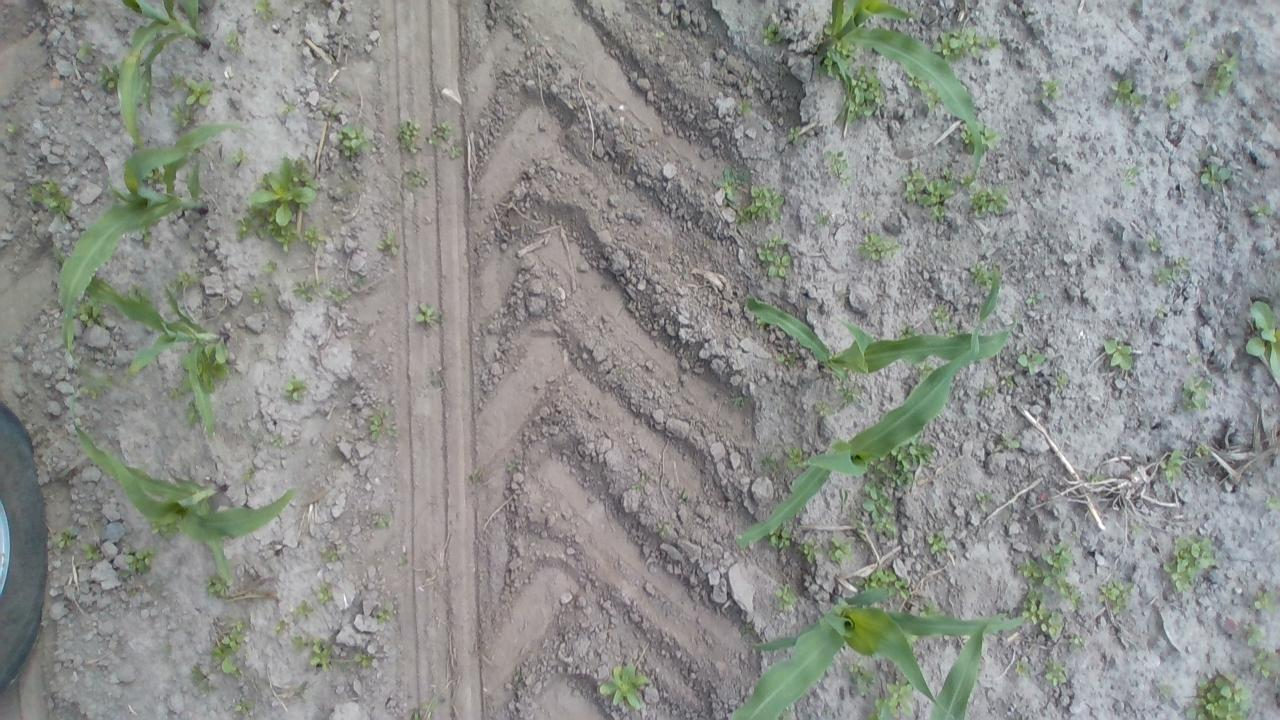Maize: (738, 270, 999, 548), (60, 124, 254, 388), (70, 388, 300, 583), (719, 586, 1030, 720), (48, 237, 232, 443), (814, 0, 984, 210), (742, 294, 1019, 384), (841, 611, 1005, 720), (119, 0, 214, 152)
Weeds: (234, 156, 324, 251), (858, 432, 933, 538), (1015, 542, 1084, 611), (1160, 535, 1216, 595), (1185, 671, 1250, 720), (596, 661, 652, 712), (178, 340, 232, 392), (1245, 300, 1280, 378), (1018, 588, 1064, 640), (900, 168, 959, 208), (842, 65, 884, 121), (852, 564, 911, 600), (734, 184, 784, 224), (210, 622, 244, 680), (868, 679, 916, 720), (28, 178, 72, 222), (931, 27, 982, 64), (814, 41, 860, 81), (1202, 53, 1237, 100), (904, 67, 942, 109), (756, 234, 792, 278), (712, 166, 750, 204), (958, 122, 1002, 154), (336, 121, 372, 158), (1098, 578, 1134, 614), (120, 546, 158, 580), (856, 232, 900, 260), (969, 187, 1010, 216), (72, 296, 106, 330), (1181, 377, 1213, 413), (823, 148, 853, 185), (1152, 256, 1190, 284), (1102, 338, 1135, 369), (848, 661, 877, 696), (1108, 78, 1144, 106), (1017, 346, 1047, 375), (1248, 649, 1280, 676), (1198, 165, 1232, 190), (311, 636, 334, 672), (367, 410, 394, 440), (1158, 450, 1184, 481), (185, 80, 213, 108), (96, 62, 120, 93), (79, 376, 114, 397), (766, 518, 792, 546), (191, 664, 215, 694), (827, 536, 853, 563), (126, 282, 154, 307), (202, 574, 230, 599), (396, 118, 420, 146), (148, 521, 180, 542), (428, 120, 453, 146), (796, 538, 822, 562), (282, 375, 306, 401), (969, 262, 992, 288), (182, 397, 201, 428), (775, 584, 796, 612), (52, 526, 76, 550), (1044, 660, 1066, 686), (172, 270, 198, 292), (914, 359, 936, 385), (1252, 589, 1276, 612), (838, 383, 861, 406), (292, 280, 314, 304), (170, 104, 192, 128), (926, 530, 947, 555), (1244, 624, 1266, 647), (784, 445, 804, 470), (1038, 79, 1060, 101), (414, 302, 436, 324), (377, 232, 398, 254), (252, 0, 276, 19), (920, 599, 944, 618), (761, 23, 782, 44), (142, 167, 166, 185), (378, 600, 396, 624), (316, 581, 334, 605), (931, 304, 950, 326), (407, 170, 427, 190), (1162, 90, 1182, 109), (974, 492, 994, 511), (761, 453, 777, 476), (326, 287, 350, 302), (1122, 167, 1140, 187), (81, 543, 102, 560), (224, 29, 241, 50), (1001, 432, 1022, 449), (294, 598, 310, 620), (738, 622, 757, 640), (776, 352, 796, 369), (814, 402, 836, 417), (929, 205, 947, 223), (248, 286, 266, 304), (1052, 373, 1068, 393), (899, 324, 918, 340), (75, 42, 94, 58), (354, 652, 373, 668), (978, 378, 994, 397), (230, 148, 247, 165), (1014, 660, 1030, 678), (776, 704, 794, 720), (1193, 444, 1211, 460), (960, 172, 976, 190), (1250, 204, 1272, 217), (138, 224, 152, 244), (320, 548, 340, 562), (235, 700, 254, 714), (260, 260, 278, 274), (292, 635, 306, 653), (423, 696, 441, 710), (280, 100, 296, 115), (816, 211, 830, 228), (788, 125, 802, 142), (983, 36, 1001, 49), (1026, 292, 1044, 305), (822, 12, 832, 35), (945, 322, 960, 337), (738, 100, 752, 116), (171, 74, 185, 90), (1158, 683, 1174, 697), (1000, 373, 1014, 389), (1146, 236, 1160, 252), (309, 277, 322, 294), (1266, 494, 1280, 509), (322, 105, 341, 116), (1066, 634, 1086, 644), (6, 122, 19, 136), (242, 468, 254, 483), (904, 633, 918, 645), (376, 516, 390, 528), (839, 488, 850, 502), (730, 396, 744, 407), (170, 388, 183, 399), (1087, 474, 1104, 482), (162, 646, 173, 657), (271, 436, 282, 447), (756, 313, 766, 325), (658, 524, 668, 536), (472, 468, 481, 481), (860, 211, 874, 219), (1131, 524, 1142, 534), (450, 148, 460, 158), (632, 483, 643, 492), (507, 461, 517, 470), (654, 32, 666, 39), (680, 492, 689, 501), (745, 71, 754, 80), (1182, 42, 1192, 50), (353, 276, 362, 284), (1157, 308, 1164, 318), (341, 88, 350, 95)
